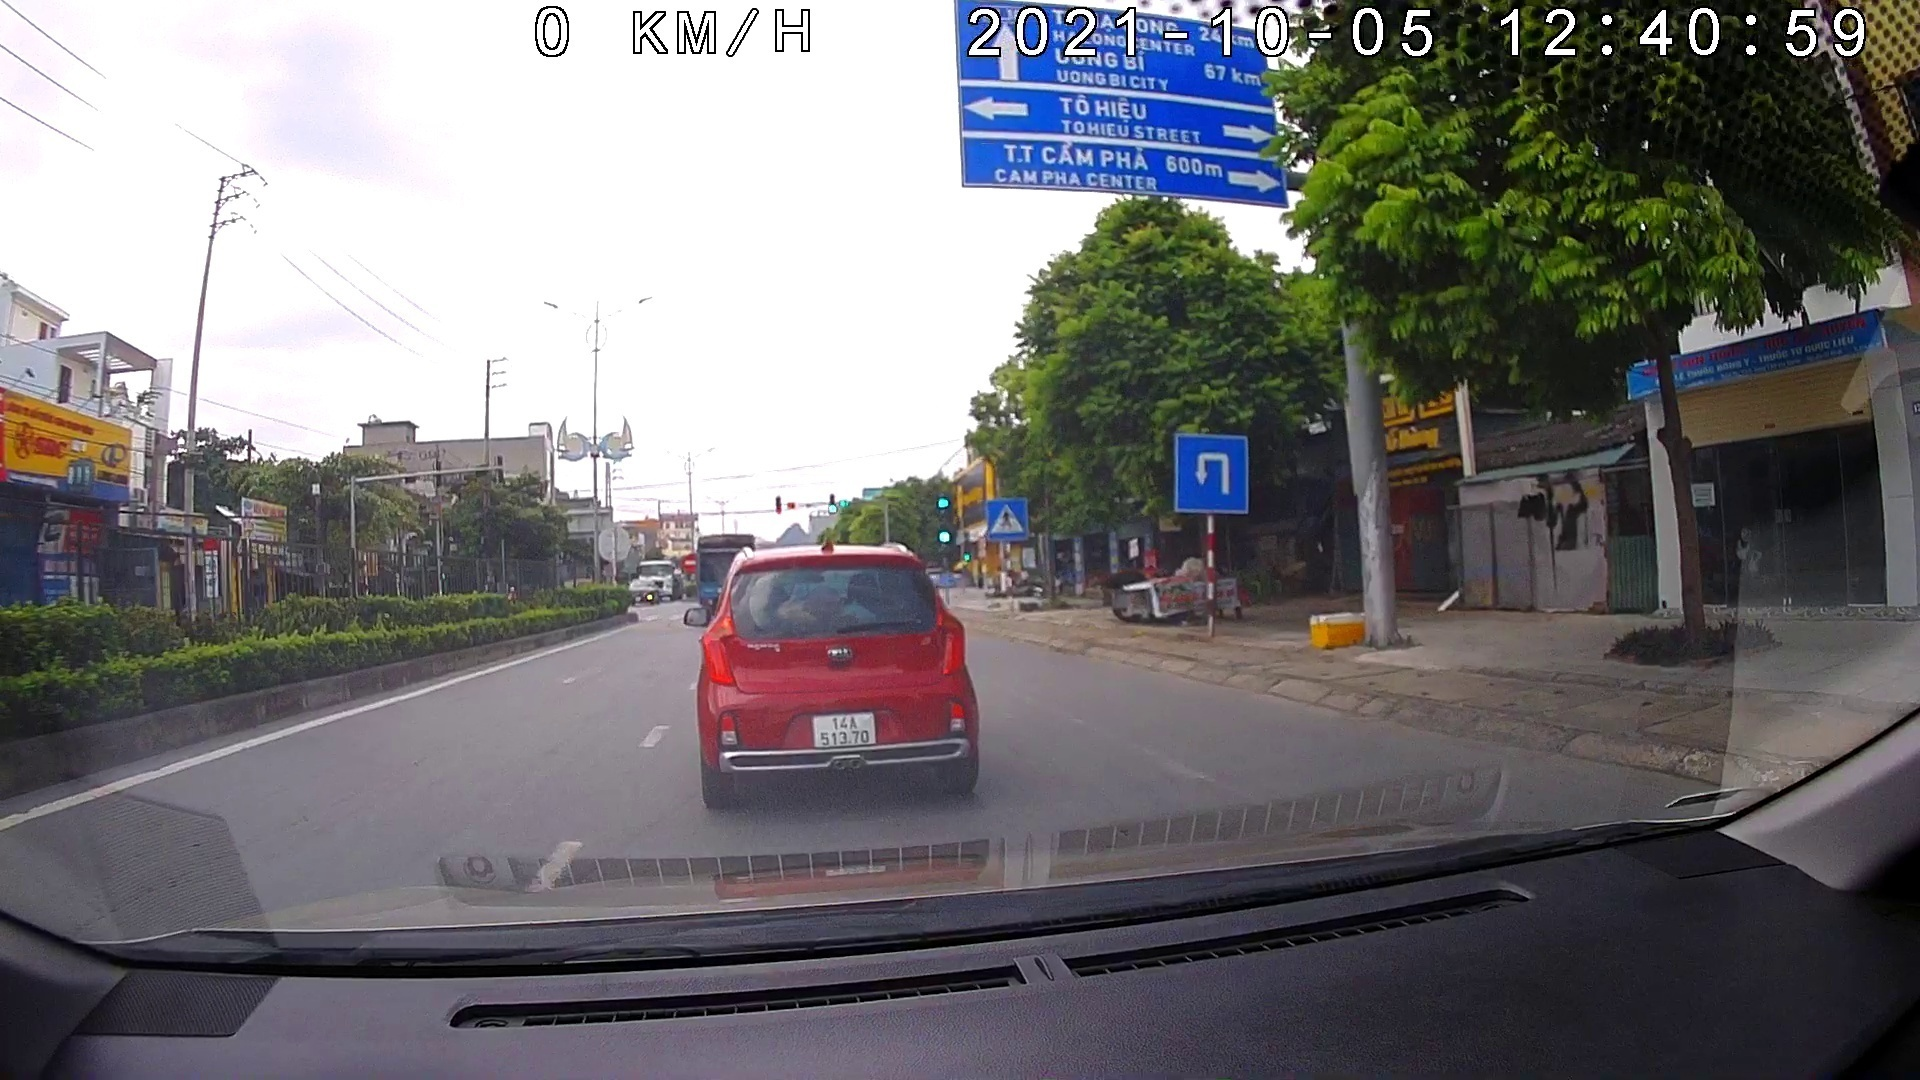Bien khac: (1171, 430, 1250, 518)
Cam di nguoc chieu: (678, 549, 699, 571)
Nguoi di bo: (982, 500, 1033, 545)
